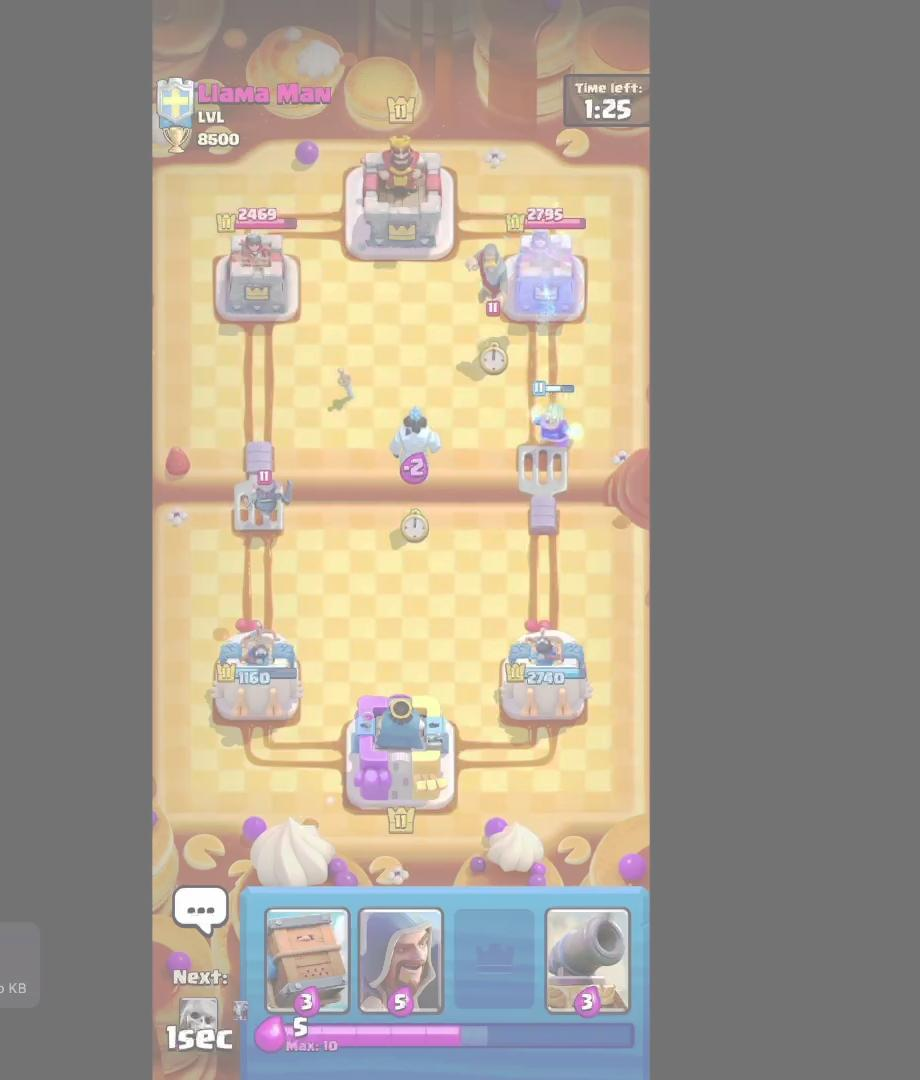Knight: (467, 241, 521, 382)
